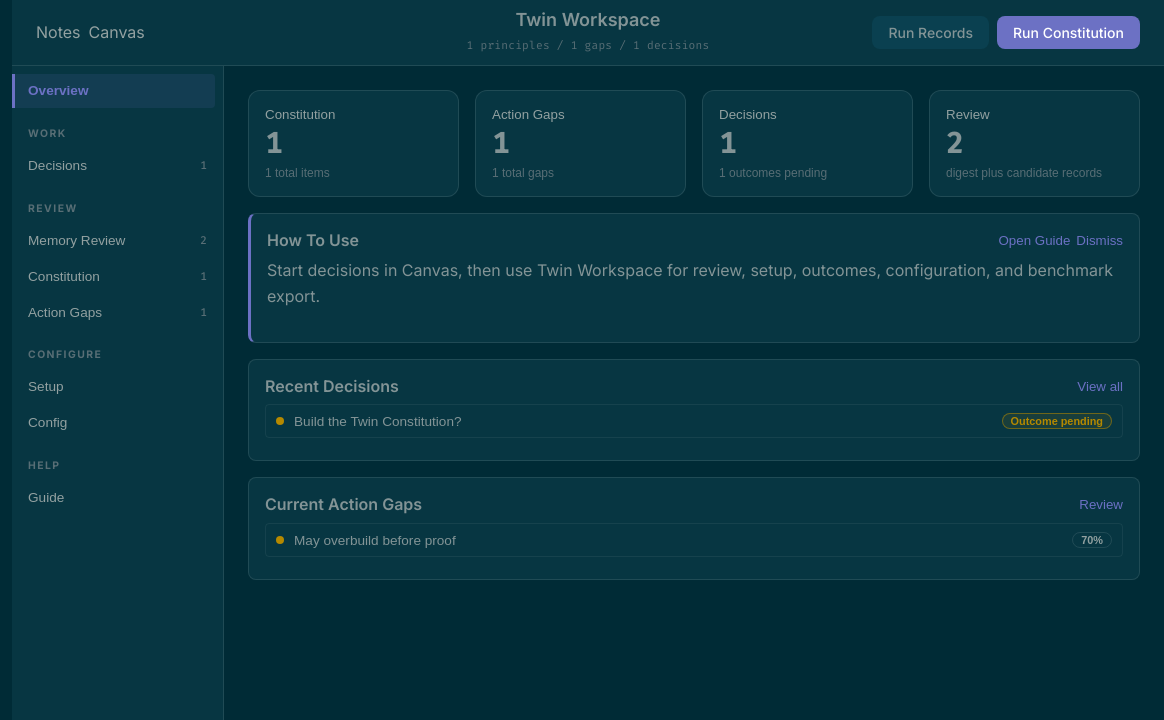
TwinReviewView › opens the evidence drawer for a user record
Click the button with class "tab-button" showing "Memory Review 2" at (114, 240), box [12, 223, 215, 257]
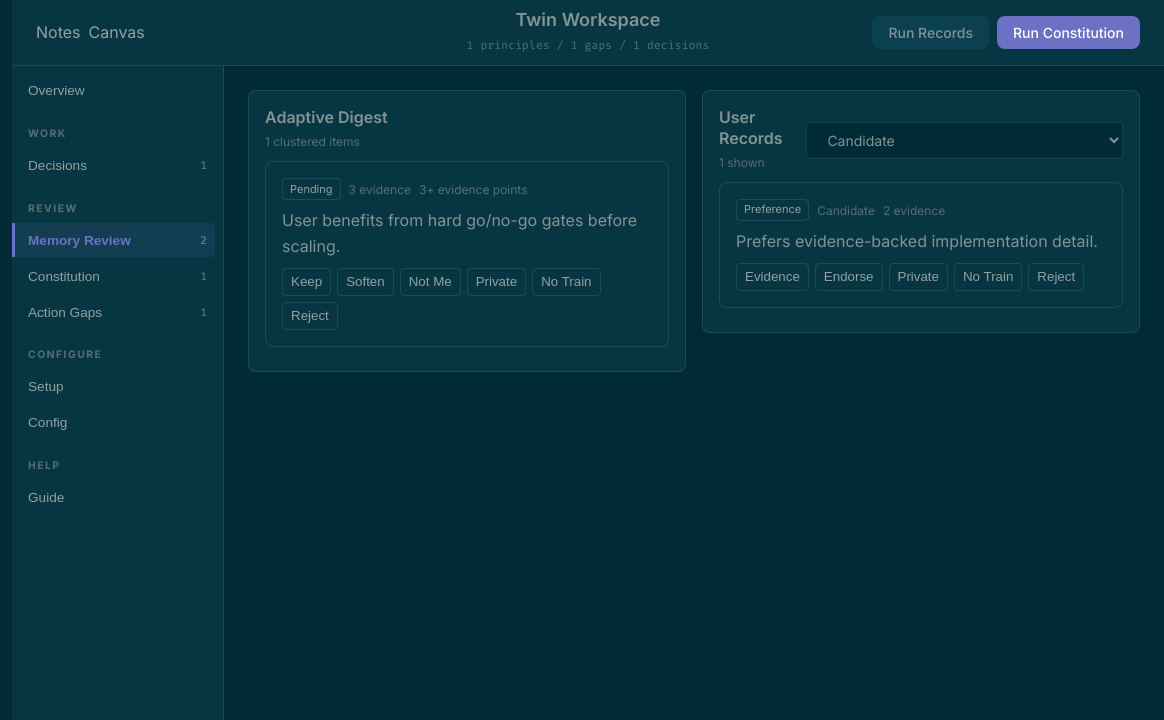
Click the button "Evidence" at (772, 277), box [736, 263, 809, 291]
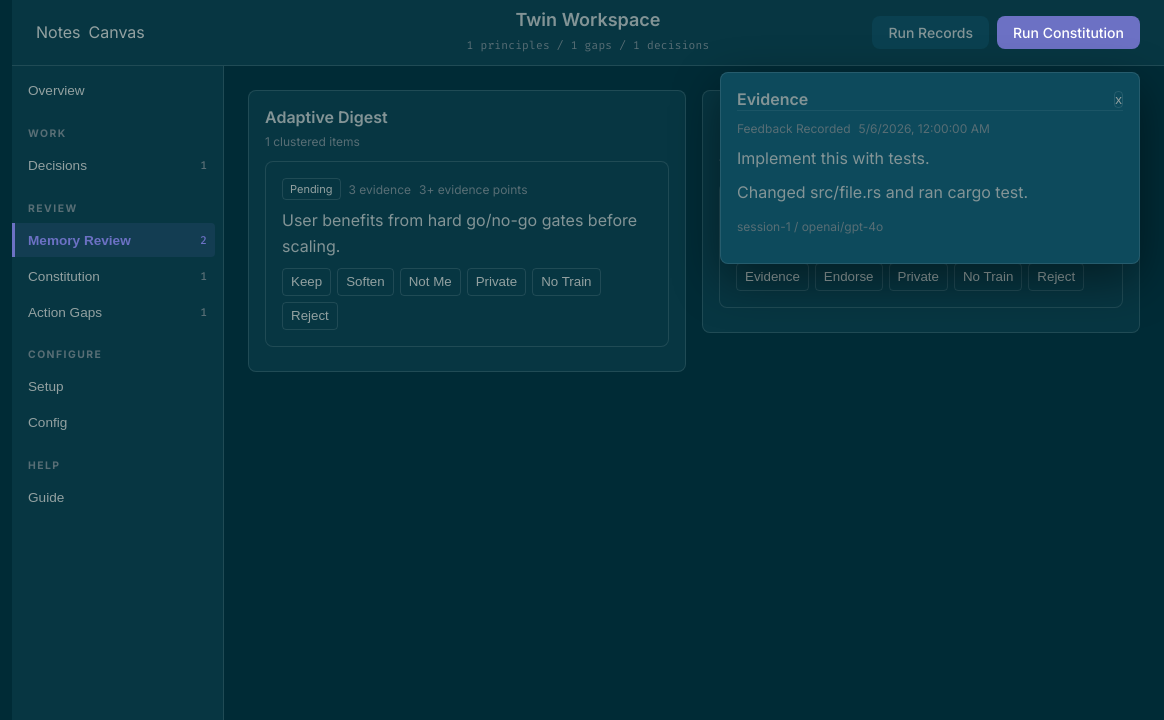
Expected: the text "Implement this with tests." is shown, [737, 148, 930, 168]
Expected: the text "openai/gpt-4o" is shown, [794, 219, 883, 234]
